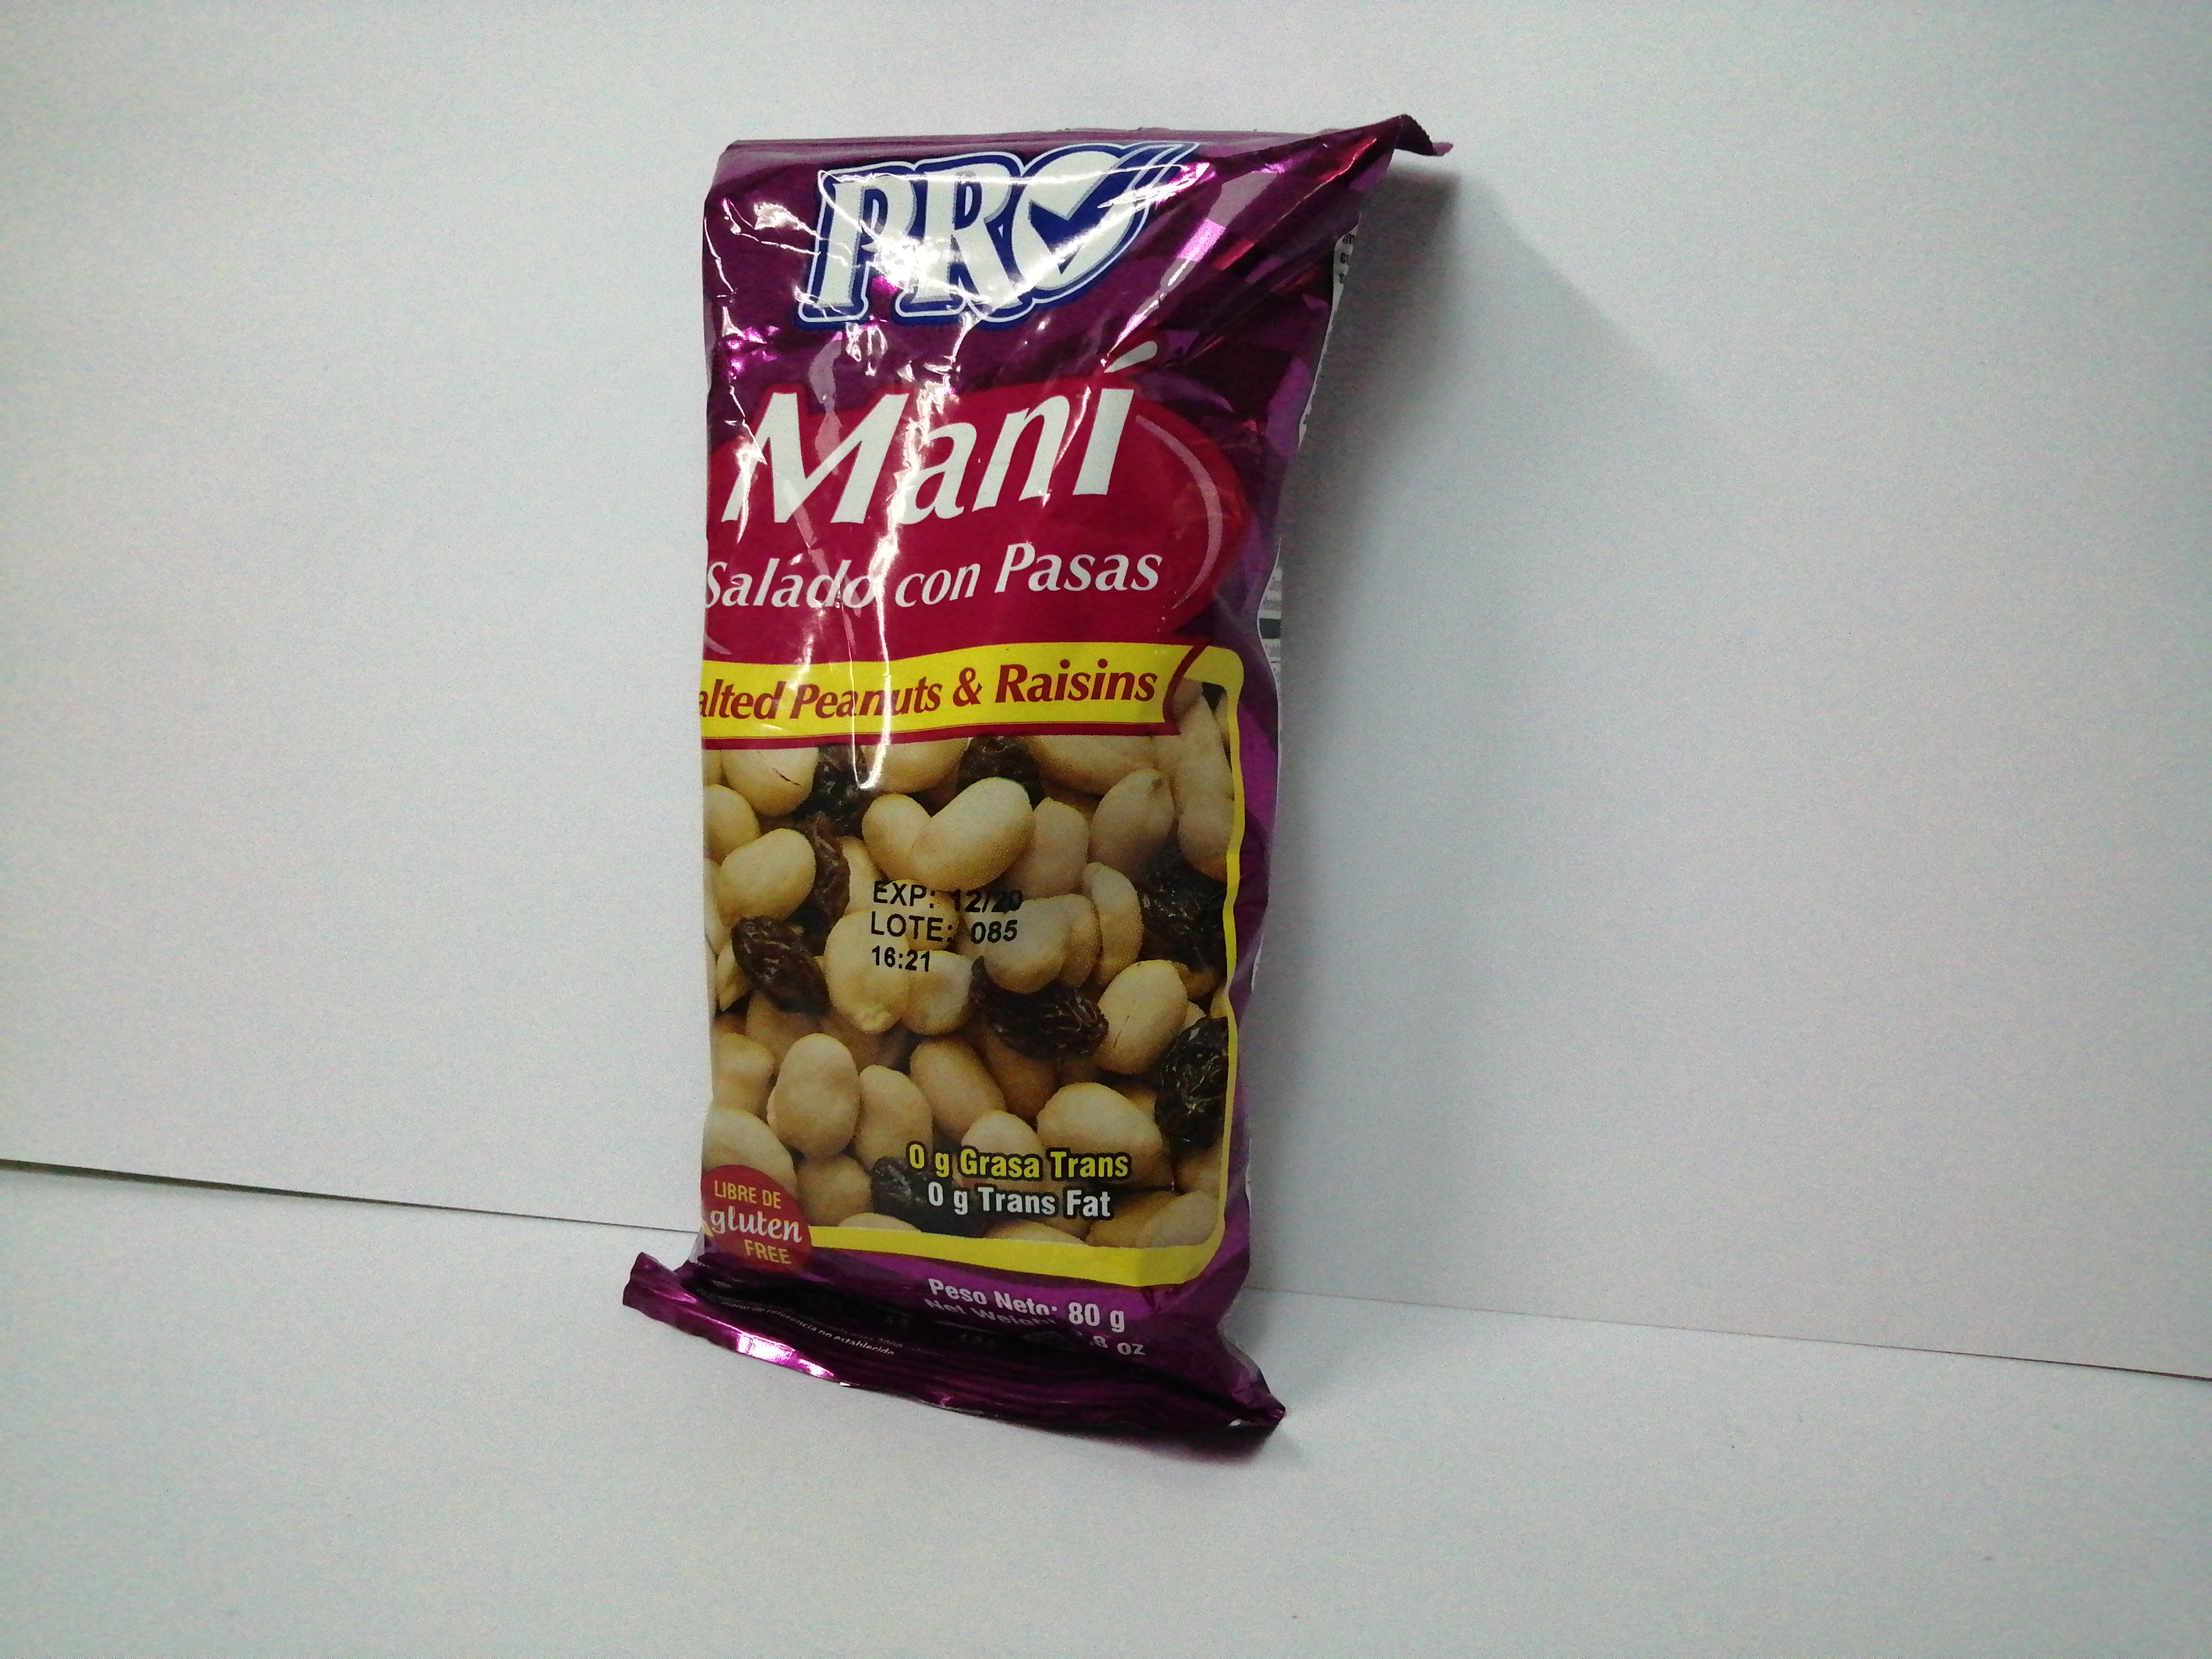mani: (625, 127, 1407, 1439)
